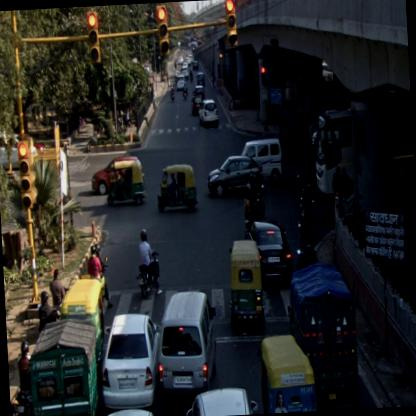car: (154, 290, 220, 394), (99, 312, 165, 410), (242, 216, 295, 286), (206, 153, 264, 201), (180, 386, 259, 415), (241, 138, 284, 183), (196, 97, 219, 129), (190, 96, 206, 110), (195, 70, 203, 84), (176, 76, 184, 88)
truck: (288, 262, 360, 410), (26, 319, 100, 415)
